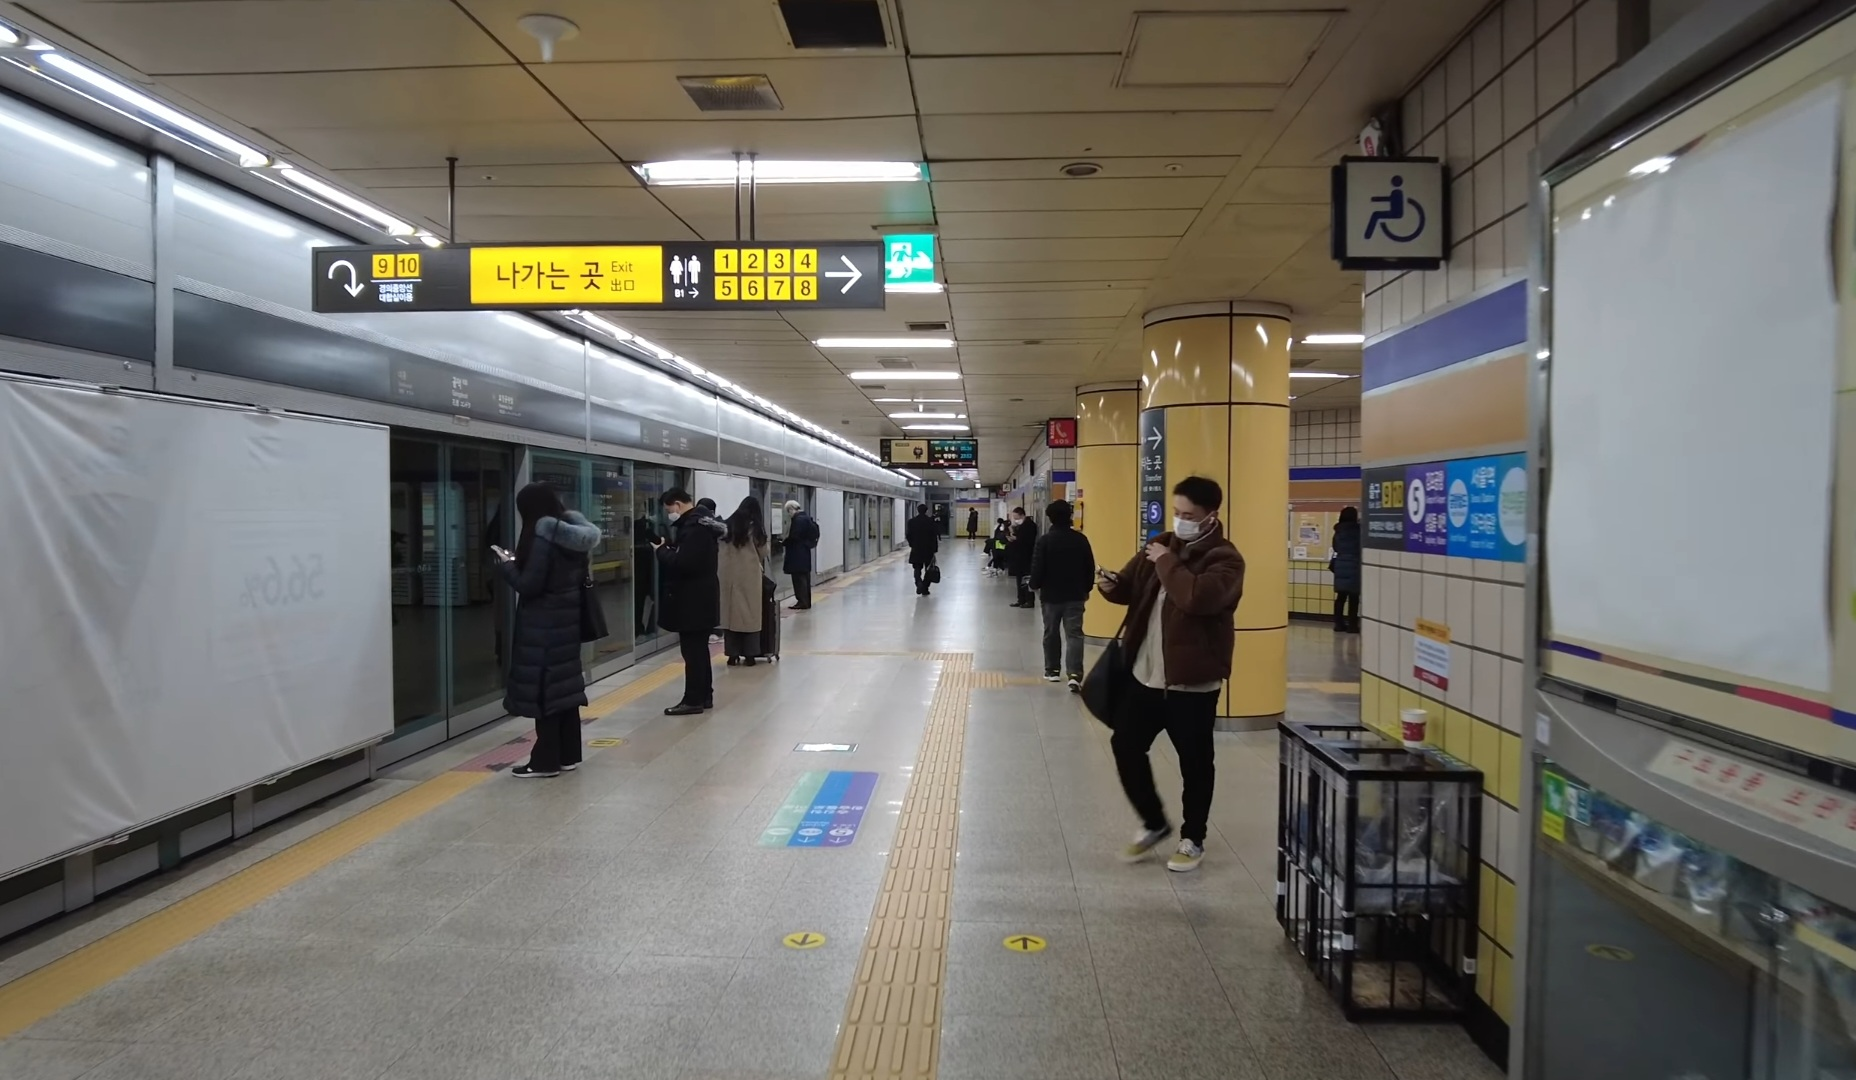signBoard: (292, 237, 904, 321)
